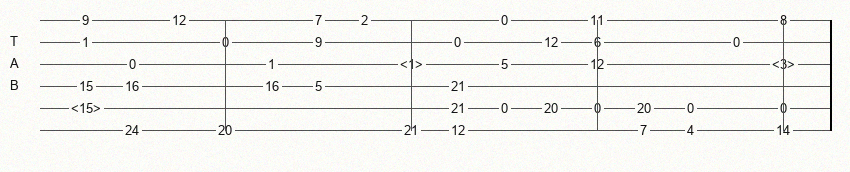0: (129, 57, 140, 71), (222, 35, 233, 49), (454, 35, 465, 49), (501, 13, 512, 27), (501, 101, 512, 115), (594, 101, 605, 115), (687, 101, 698, 115), (733, 35, 744, 49), (780, 101, 791, 115)
1: (82, 35, 93, 49), (268, 57, 279, 71)
11: (590, 13, 608, 27)
12: (172, 13, 190, 27), (451, 123, 469, 137), (544, 35, 562, 49), (590, 57, 608, 71)
14: (776, 123, 794, 137)
15: (79, 79, 97, 93)
16: (125, 79, 143, 93), (265, 79, 283, 93)
2: (361, 13, 372, 27)
20: (218, 123, 236, 137), (544, 101, 562, 115), (637, 101, 655, 115)
21: (404, 123, 422, 137), (451, 101, 469, 115), (451, 79, 469, 93)
24: (125, 123, 143, 137)
4: (687, 123, 698, 137)
5: (315, 79, 326, 93), (501, 57, 512, 71)
6: (594, 35, 605, 49)
7: (315, 13, 326, 27), (640, 123, 651, 137)
8: (780, 13, 791, 27)
9: (82, 13, 93, 27), (315, 35, 326, 49)
harmonic: (71, 101, 105, 115), (400, 57, 427, 71), (772, 57, 799, 71)
